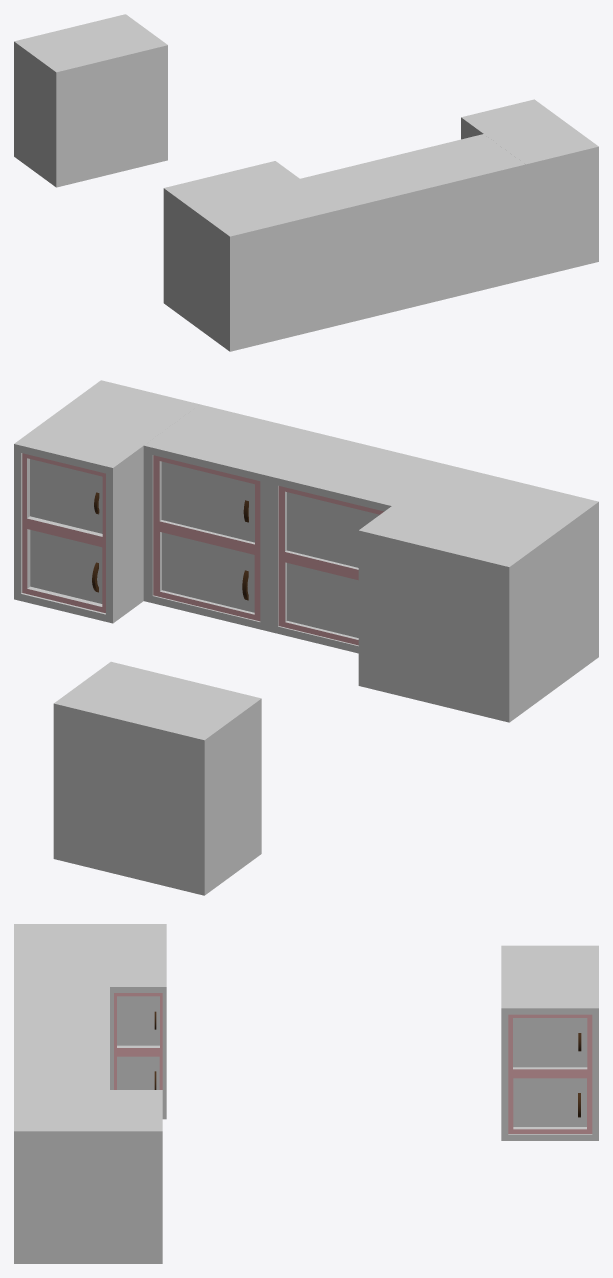
The model's file is cabinets 1.fbx.
The picture shows the model from 3 angles, top to bottom: view 1: azimuth 30°, elevation 25°; view 2: azimuth 150°, elevation 25°; view 3: azimuth 270°, elevation 25°; orthographic projection. The views are drawn at different scales.
Parts seen in each view (by area): view 1: Kitchen_Cabinet.004, Kitchen_Cabinet, Kitchen_Cabinet.002, Kitchen_Cabinet.003, Kitchen_Cabinet.001; view 2: Kitchen_Cabinet.004, Kitchen_Cabinet, Kitchen_Cabinet.001, Kitchen_Cabinet.002, Kitchen_Cabinet.003; view 3: Kitchen_Cabinet.001, Kitchen_Cabinet, Kitchen_Cabinet.004, Kitchen_Cabinet.003, Kitchen_Cabinet.002.
Part boxes in pixels (x1,y1,x2,y2): Kitchen_Cabinet.004: (163,161,339,351); Kitchen_Cabinet: (14,14,167,187); Kitchen_Cabinet.002: (391,134,525,302); Kitchen_Cabinet.003: (298,156,432,324); Kitchen_Cabinet.001: (461,99,598,279); Kitchen_Cabinet.004: (358,465,598,722); Kitchen_Cabinet: (53,661,261,895); Kitchen_Cabinet.001: (14,380,199,623); Kitchen_Cabinet.002: (143,404,324,631); Kitchen_Cabinet.003: (269,435,450,653); Kitchen_Cabinet.001: (14,1090,162,1263); Kitchen_Cabinet: (501,945,598,1140); Kitchen_Cabinet.004: (14,924,166,1119); Kitchen_Cabinet.003: (14,985,109,1037); Kitchen_Cabinet.002: (14,1038,109,1089).
Bounding box in the file's own units: 251 × 75.06 × 300.
